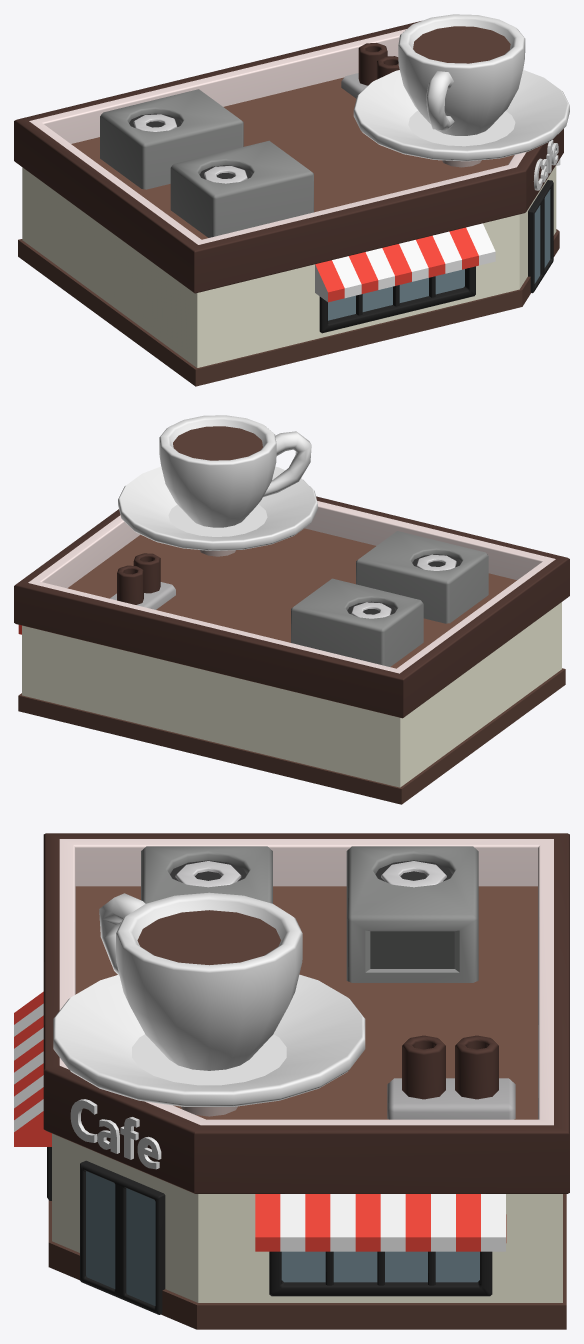
Rendered from building_002.gltf.
3 renders of one model, top to bottom at view 1: azimuth 30°, elevation 25°; view 2: azimuth 150°, elevation 25°; view 3: azimuth 270°, elevation 25°, orthographic. The views are drawn at different scales.
Parts seen in each view (by area): view 1: building_002; view 2: building_002; view 3: building_002.
Part boxes in pixels (x1=…): building_002: x1=14, y1=14, x2=569, y2=386; building_002: x1=14, y1=415, x2=569, y2=804; building_002: x1=14, y1=833, x2=569, y2=1329.
Size of the model in its own units: 14.4 by 7.15 by 10.83.
Materials: 1 (1 with a texture image).
